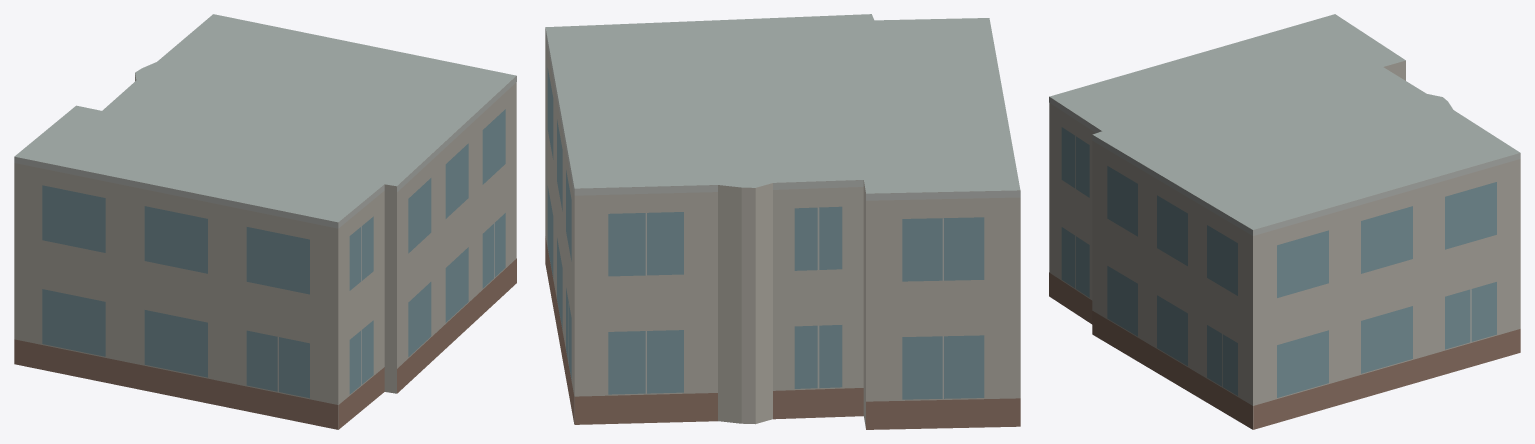
The model's file is survey-upis-33023544.glb.
3 views of the same model, side by side, from view 1: azimuth 30°, elevation 25°; view 2: azimuth 150°, elevation 25°; view 3: azimuth 270°, elevation 25° (orthographic). The views are drawn at different scales.
Parts seen in each view (by area): view 1: survey-upis-33023544.tmp; view 2: survey-upis-33023544.tmp; view 3: survey-upis-33023544.tmp.
Part boxes in pixels (box(x1,y1,x2,y2)): survey-upis-33023544.tmp: box(14, 14, 516, 429); survey-upis-33023544.tmp: box(545, 14, 1020, 429); survey-upis-33023544.tmp: box(1049, 14, 1520, 429).
Bounding box in the file's own units: 18.8 × 8.1 × 17.33.
